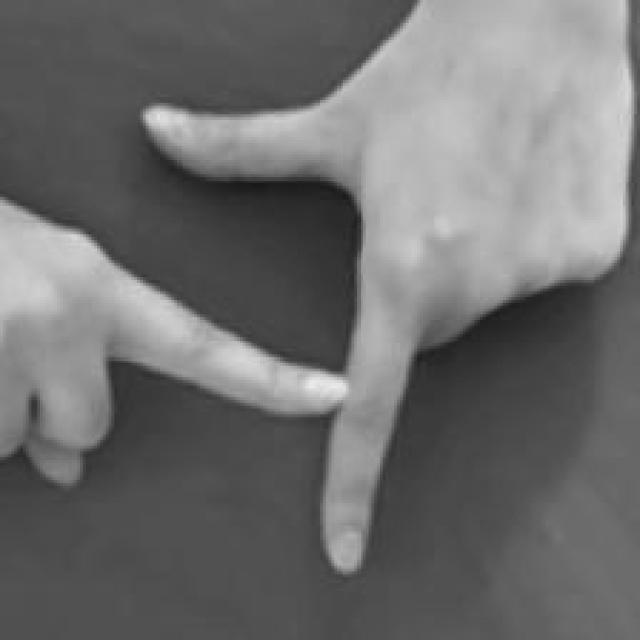F: (0, 0, 634, 571)
